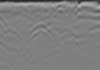hyperbola: (20, 21, 63, 59), (51, 32, 85, 56), (1, 25, 24, 54), (72, 1, 100, 22)
